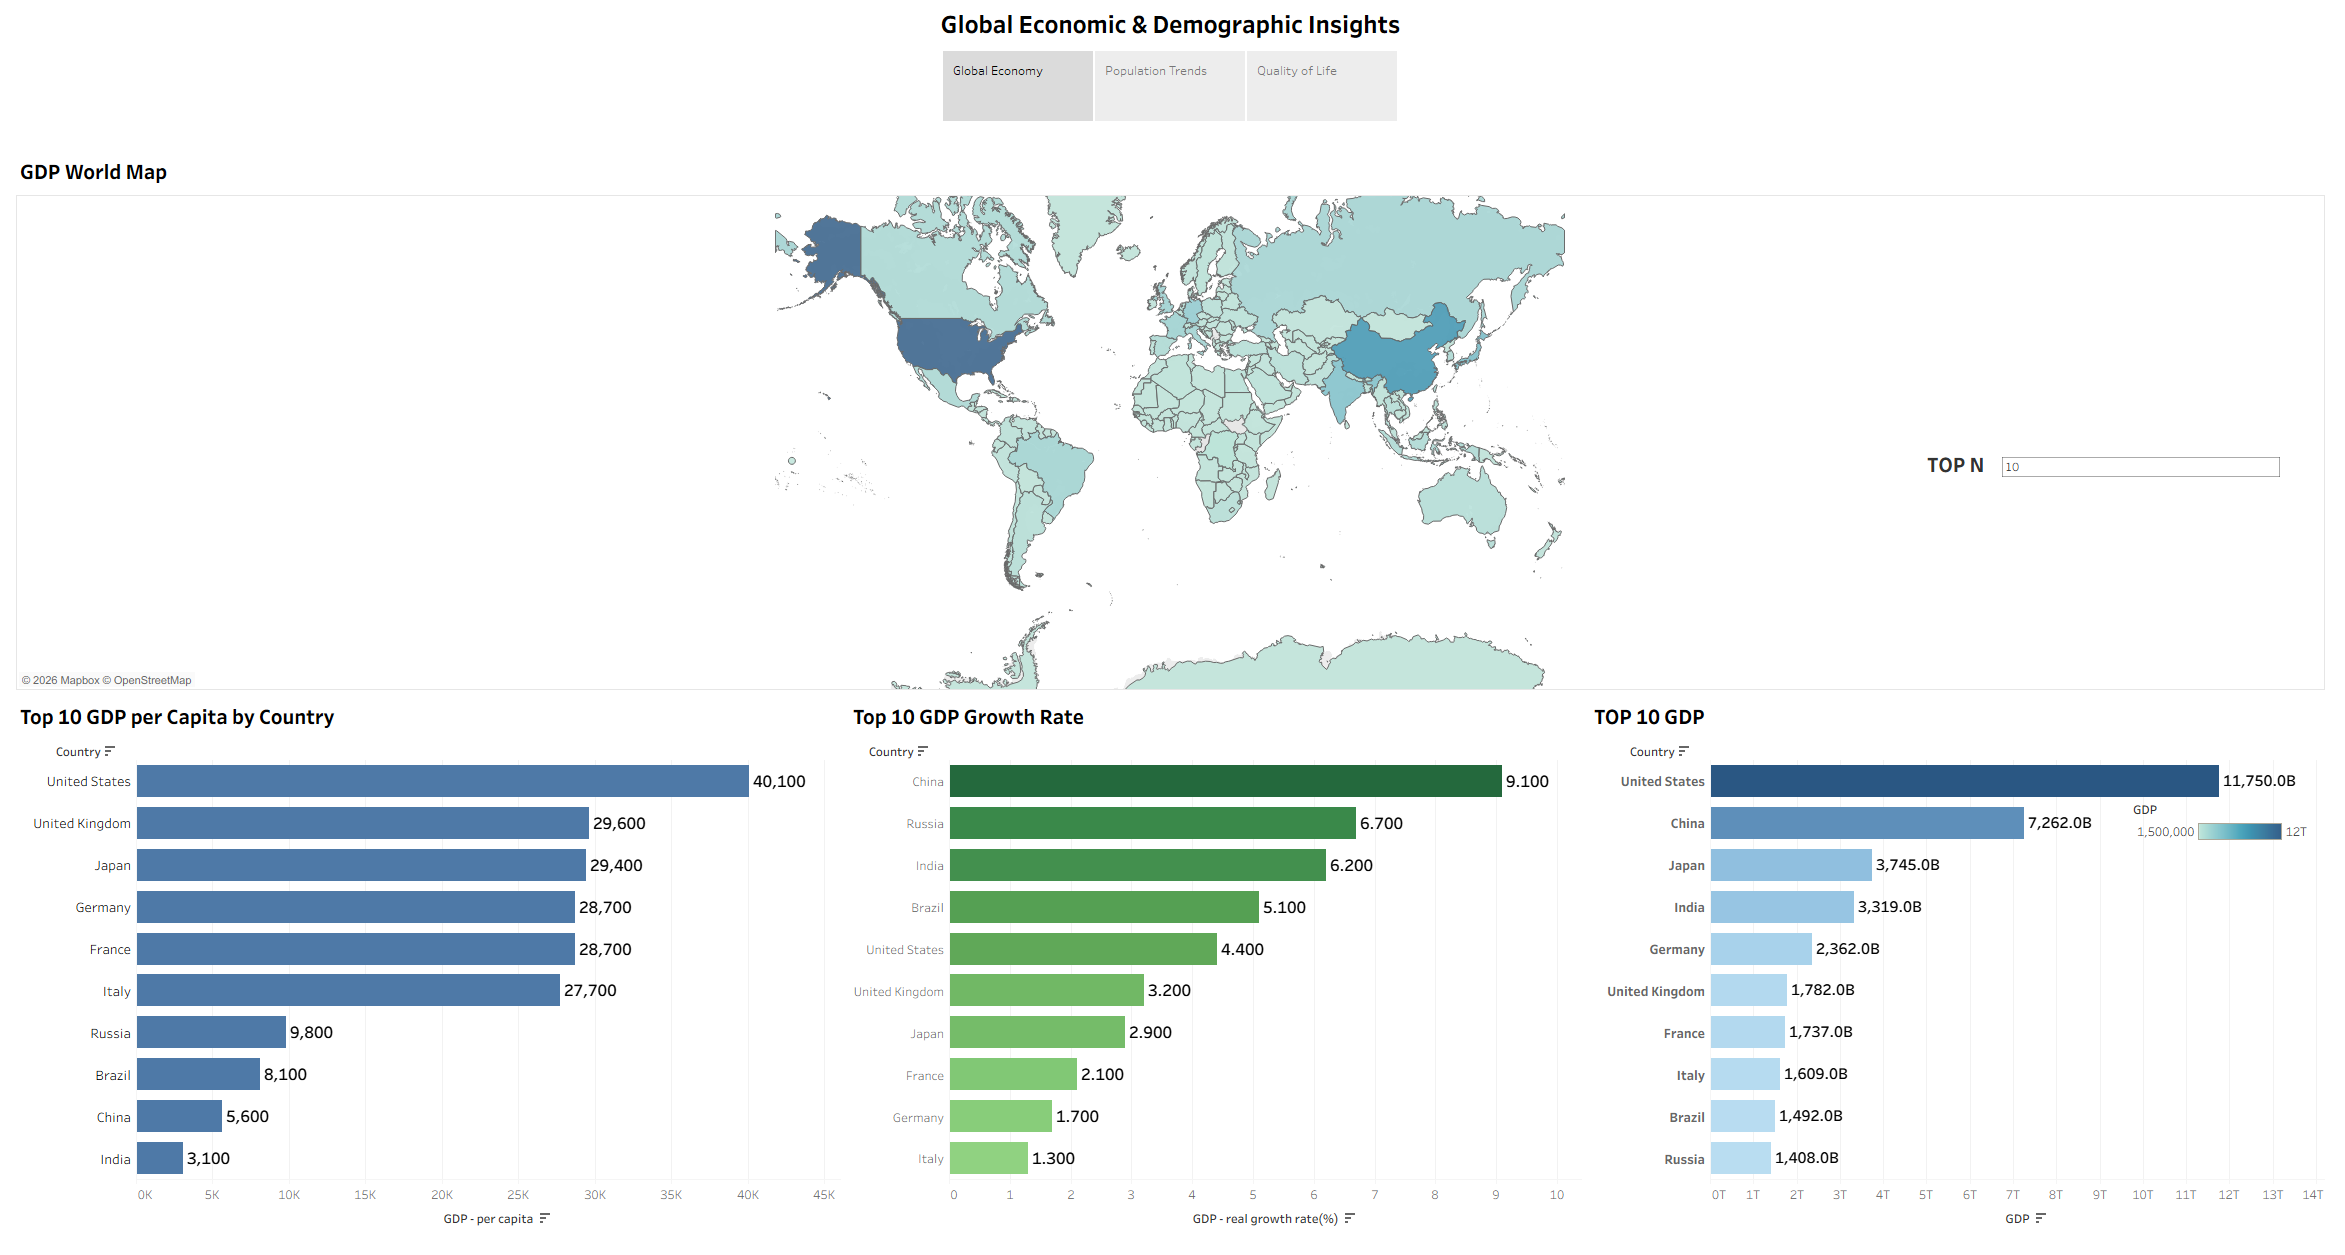

This screenshot's page, from the dashboard's own definition file:
{"tool":"tableau","page":{"name":"Global Economic Overview","canvas":[1000,1000],"units":"permille","ordinal":1},"visuals":[{"type":"worksheet","title":"GDP World Map ","mark":"Multipolygon","box":[3.4,6.4,993.2,493.6]},{"type":"parameter","param":"[Parameters].[Parameter 1497045291749376]","box":[824.2,282.6,152.4,43.8]},{"type":"worksheet","title":"GDP per Capita by Country","mark":"Automatic","rows":["Country"],"cols":["GDP - per capita"],"box":[3.4,500,357.2,493.6]},{"type":"worksheet","title":"GDP Growth Rate","mark":"Automatic","rows":["Country"],"cols":["GDP - real growth rate(%)"],"box":[360.6,500,317.6,493.6]},{"type":"worksheet","title":"GDP Per Country","mark":"Automatic","rows":["Country"],"cols":["GDP"],"box":[678.2,500,318.4,493.6]},{"type":"legend","title":"GDP World Map ","param":"[federated.1rtwd1z1ic088v170poo70lr8tb9].[sum:GDP:qk]","box":[912.7,597.1,76.6,60.5]}]}

Visuals, with their boxes on the dashboard's canvas, which has no fixed pixel size, in thousandths of its width and height (x1, y1, x2, y2). These are canvas units, not pixel positions in the 2345x1255 screenshot, which may show the page scaled, cropped or inside an application window:
"GDP World Map " worksheet (Multipolygon marks): [left=3, top=6, right=997, bottom=500]
parameter: [left=824, top=283, right=977, bottom=326]
"GDP per Capita by Country" worksheet: [left=3, top=500, right=361, bottom=994]
"GDP Growth Rate" worksheet: [left=361, top=500, right=678, bottom=994]
"GDP Per Country" worksheet: [left=678, top=500, right=997, bottom=994]
"GDP World Map " legend: [left=913, top=597, right=989, bottom=658]
